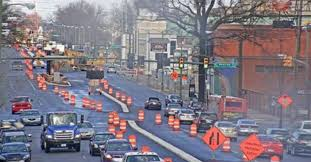barrel: (223, 139, 231, 153), (191, 125, 198, 137), (130, 136, 137, 148), (156, 113, 162, 125), (109, 112, 115, 124), (174, 118, 180, 129), (120, 120, 126, 131), (139, 110, 144, 122), (115, 113, 120, 125), (109, 125, 115, 134), (64, 90, 68, 101), (170, 115, 174, 125), (128, 96, 132, 105), (72, 95, 76, 104), (98, 103, 102, 111)
